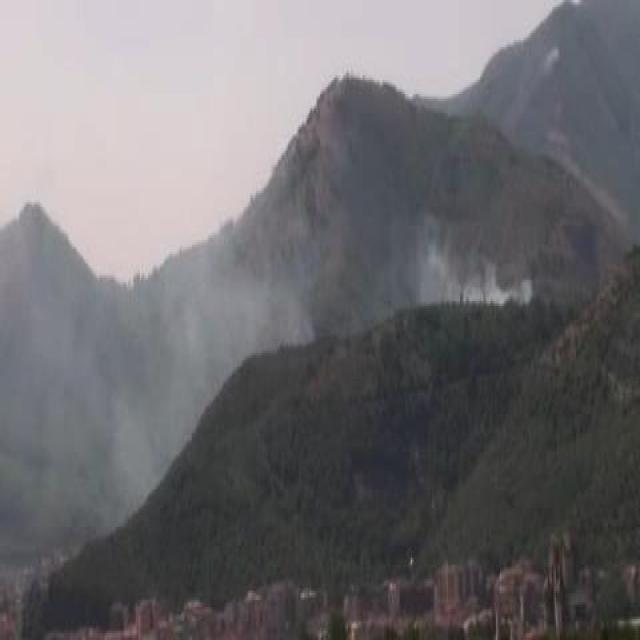Smoke: (139, 226, 293, 400), (421, 249, 535, 299)
